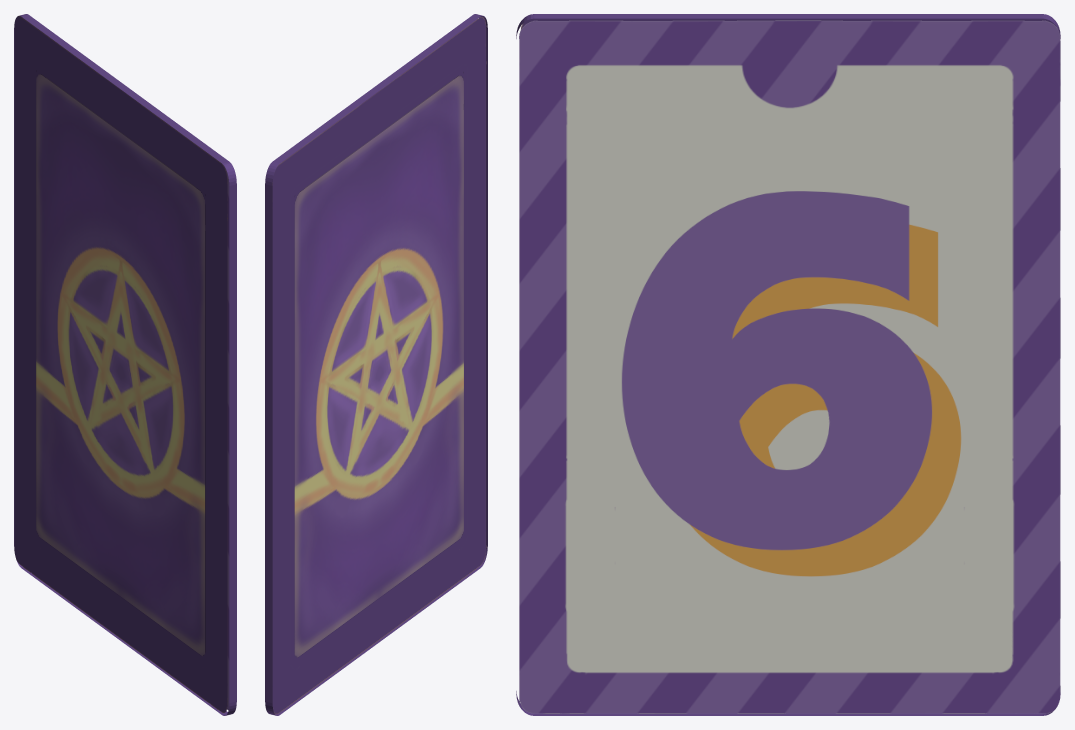
Rendered from m_card_6.fbx.
The picture shows the model from 3 angles, left to right: view 1: azimuth 30°, elevation 25°; view 2: azimuth 150°, elevation 25°; view 3: azimuth 270°, elevation 25°; orthographic projection. The views are drawn at different scales.
Visible parts, largest first — view 1: Card; view 2: Card; view 3: Card.
Boxes of the visible parts, <box> form: Card: <box>14,14,236,715</box>; Card: <box>265,14,487,715</box>; Card: <box>516,14,1060,715</box>.
Size of the model in its own units: 4.2 by 295 by 209.
